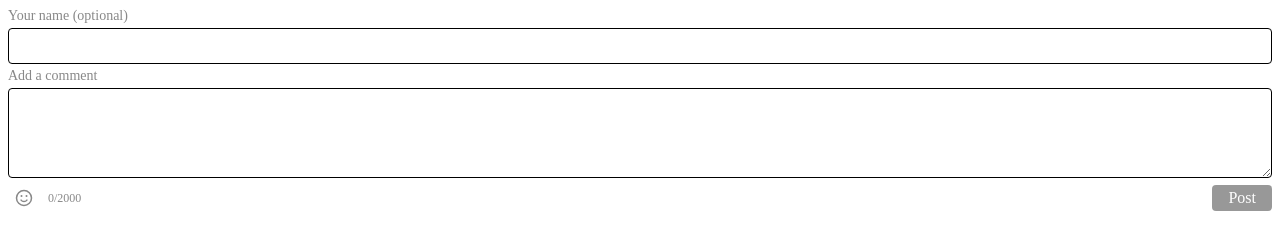
Test: CommentThread › shows the server's message when posting fails
This screenshot has width=1280, height=250.
Type "spam" into the text box labelled "Add a comment" at (640, 133), box [8,88,1272,178]
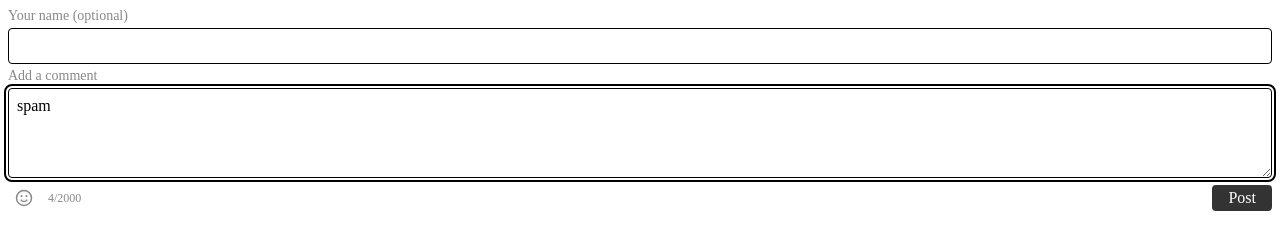
Click the button "Post" at (1242, 198), box [1212,185,1272,211]
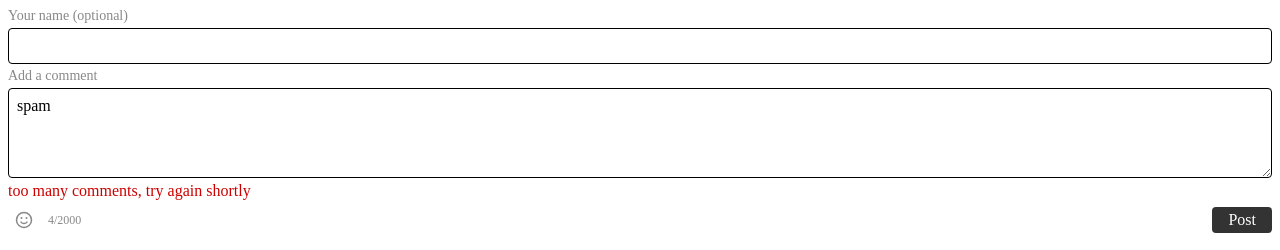
expect the message shows "too many comments": met, box [8,182,251,199]
